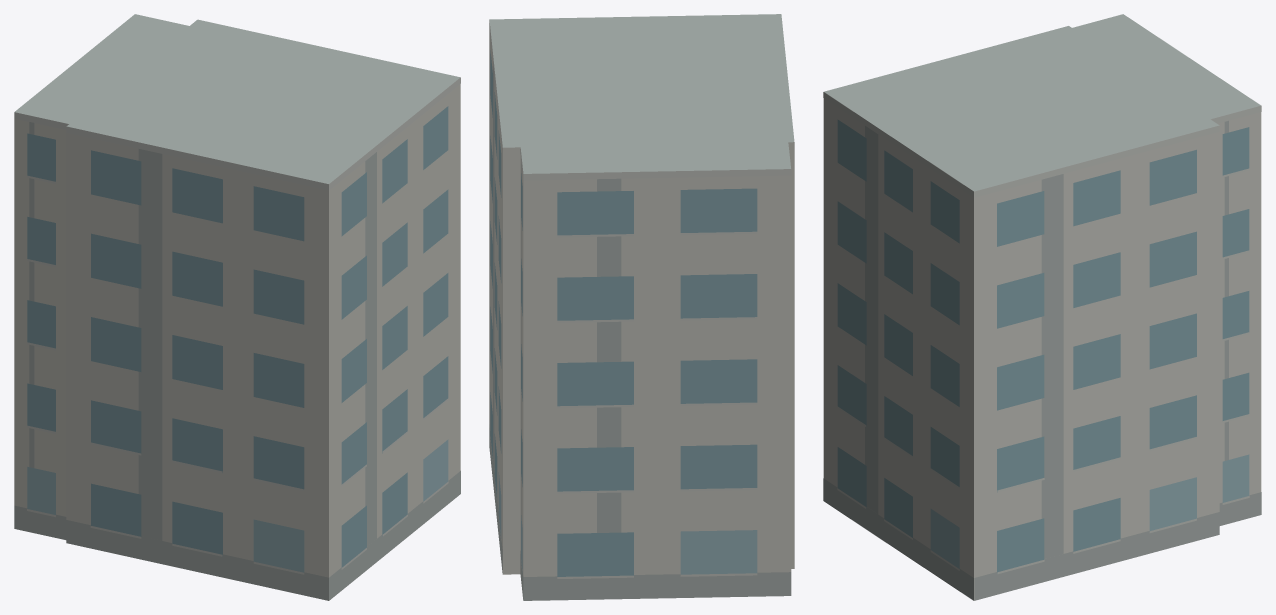
The model's file is residential-5feff1e0-0998-46c0-9826-3bb7c0bad565.glb.
3 views of the same model, side by side, from view 1: azimuth 30°, elevation 25°; view 2: azimuth 150°, elevation 25°; view 3: azimuth 270°, elevation 25° (orthographic). The views are drawn at different scales.
Visible parts, largest first — view 1: residential-5feff1e0-0998-46c0-9826-3bb7c0bad565.tmp; view 2: residential-5feff1e0-0998-46c0-9826-3bb7c0bad565.tmp; view 3: residential-5feff1e0-0998-46c0-9826-3bb7c0bad565.tmp.
Boxes of the visible parts, <box> form: residential-5feff1e0-0998-46c0-9826-3bb7c0bad565.tmp: <box>14,14,460,600</box>; residential-5feff1e0-0998-46c0-9826-3bb7c0bad565.tmp: <box>489,14,794,600</box>; residential-5feff1e0-0998-46c0-9826-3bb7c0bad565.tmp: <box>823,14,1261,600</box>.
Size of the model in its own units: 14.71 by 15.8 by 15.33.
